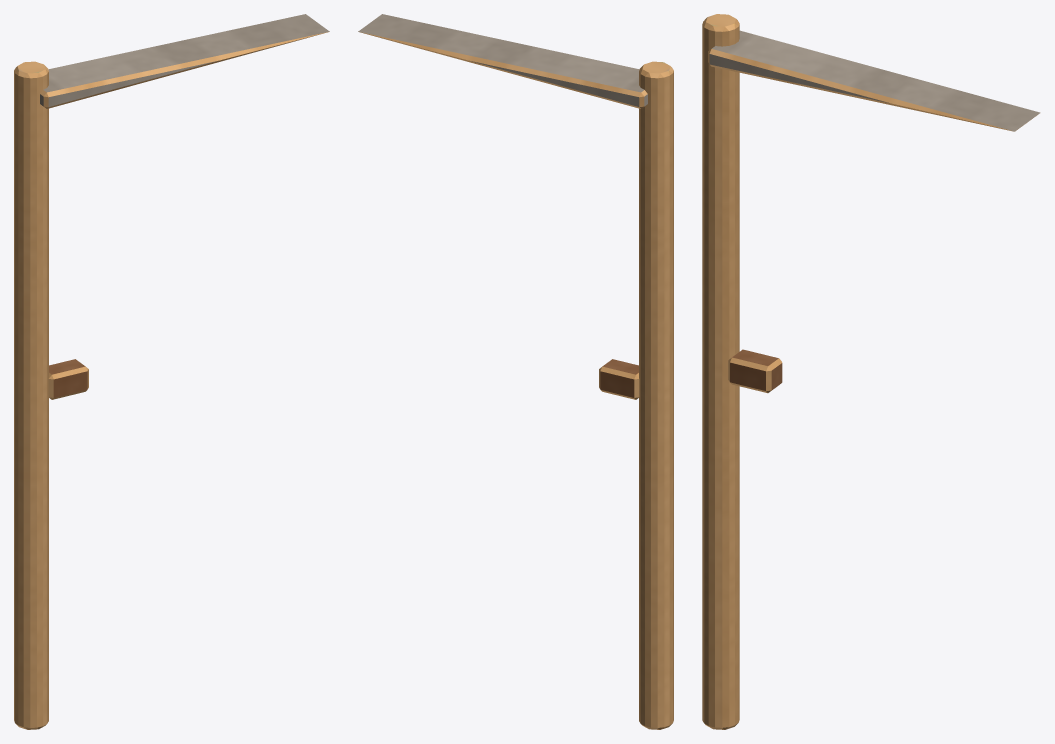
Rendered from sm_tool_scythe.glb.
3 renders of one model, left to right at view 1: azimuth 30°, elevation 25°; view 2: azimuth 150°, elevation 25°; view 3: azimuth 330°, elevation 25°, orthographic. The views are drawn at different scales.
Parts seen in each view (by area): view 1: sm_tool_scythe; view 2: sm_tool_scythe; view 3: sm_tool_scythe.
Part boxes in pixels (box(x1,y1,x2,y2)): sm_tool_scythe: box(14, 14, 329, 729); sm_tool_scythe: box(358, 14, 673, 729); sm_tool_scythe: box(702, 14, 1040, 729).
Bounding box in the file's own units: 0.3745 × 0.78 × 0.06.
Materials: 1 (1 with a texture image).
